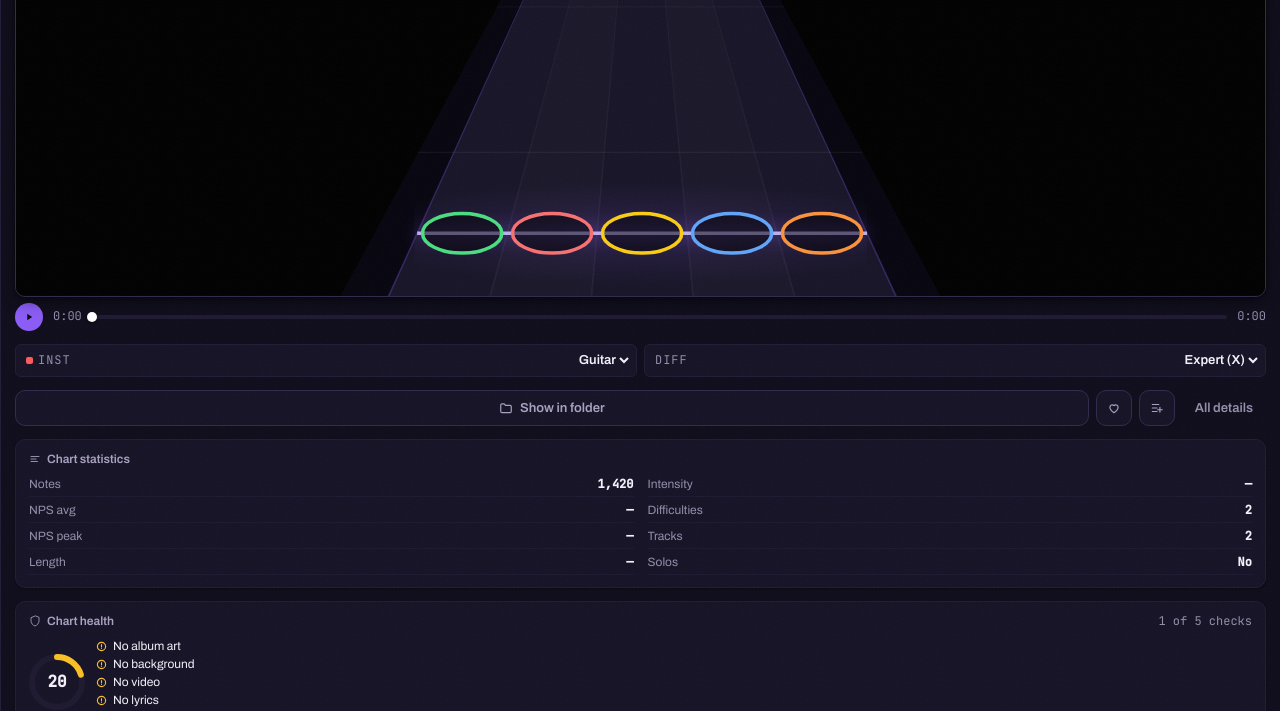
Test case: Rail: the badge over the highway › names the instrument and difficulty the preview would play
(page scrolled)
Select "Drums" in the dropdown labelled "INST" at coordinates (355, 360), box [78,352,632,368]
(page scrolled)
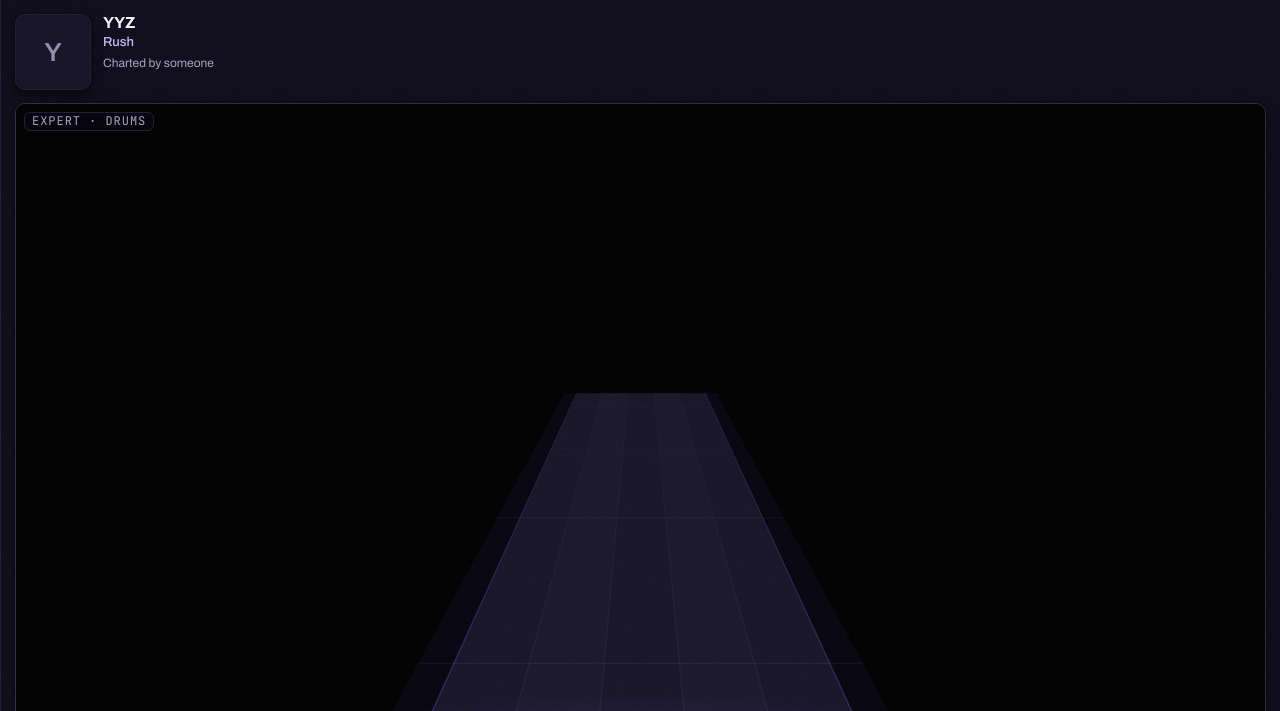
Expected: the text with class "hwt" reads "Expert · Drums", [32,113,146,129]
